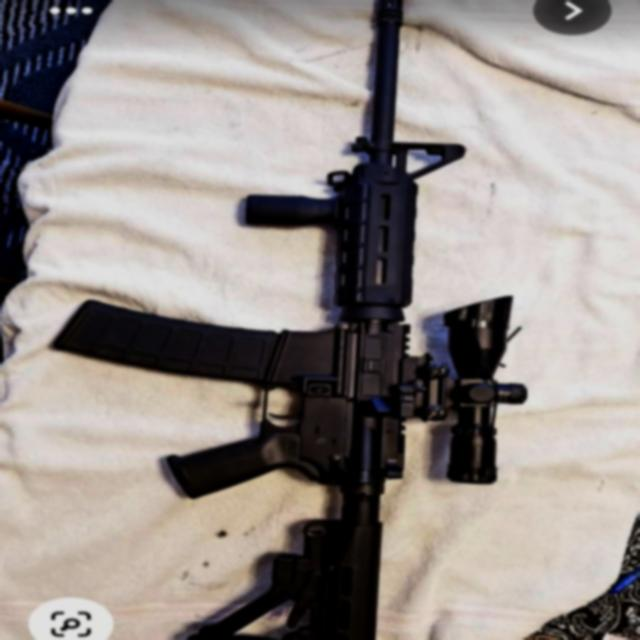m16: (34, 0, 472, 501)
